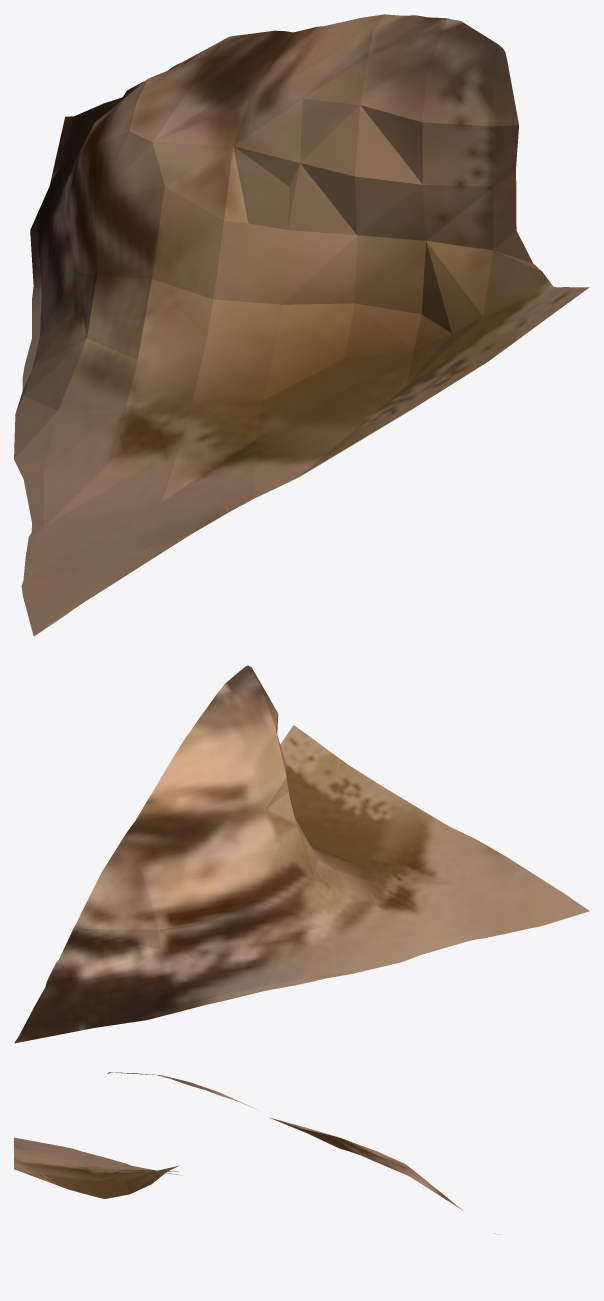
3 renders of one model, top to bottom at view 1: azimuth 30°, elevation 25°; view 2: azimuth 150°, elevation 25°; view 3: azimuth 270°, elevation 25°, orthographic. The views are drawn at different scales.
Bounding box in the file's own units: 0.2572 × 0.1722 × 0.4205.
1 material, 1 textured.
